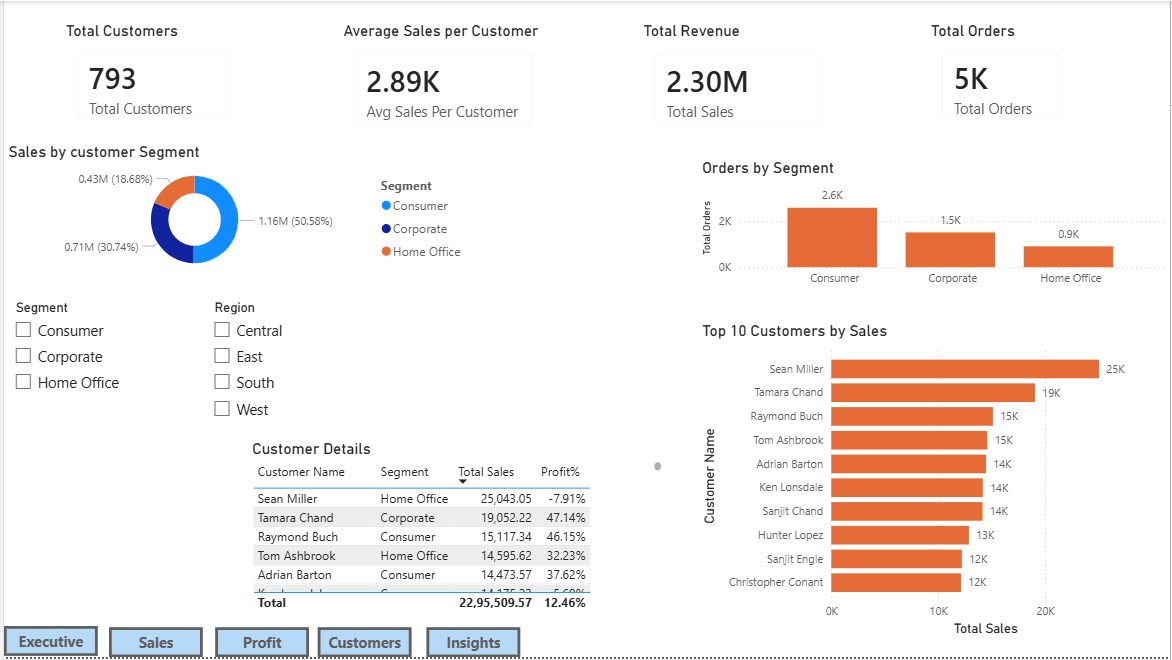

What the dashboard file says about the page in this screenshot:
{"tool":"powerbi","page":{"name":"Customer Insights","canvas":[1280,720],"ordinal":3},"visuals":[{"type":"cardVisual","title":"Total Customers","fields":{"Data":["Orders.Total Customers"]},"box":[63.1,22,204.5,124.9],"z":0},{"type":"cardVisual","title":"Average Sales per Customer","fields":{"Data":["Orders.Avg Sales Per Customer"]},"box":[367.8,22,229.2,131.7],"z":1000},{"type":"cardVisual","title":"Total Revenue","fields":{"Data":["Orders.Total Sales"]},"box":[697.1,22,215.2,132.1],"z":2000},{"type":"cardVisual","title":"Total Orders","fields":{"Data":["Orders.Total Orders"]},"box":[1012.5,22,163.9,124.7],"z":3000},{"type":"donutChart","title":" Sales by customer Segment","fields":{"Category":["Orders.Segment"],"Y":["Orders.Total Sales"]},"box":[0,155.1,516,150.9],"z":4000},{"type":"clusteredColumnChart","title":"Orders by Segment","fields":{"Category":["Orders.Segment"],"Y":["Orders.Total Orders"]},"box":[761.6,172.9,518.7,149.6],"z":5000},{"type":"barChart","title":"Top 10 Customers by Sales","fields":{"Category":["Orders.Customer Name"],"Y":["Orders.Total Sales"]},"box":[761.6,351.3,500.9,351.3],"z":6000},{"type":"tableEx","title":"Customer Details","fields":{"Values":["Orders.Customer Name","Orders.Segment","Sum(Orders.Sales)","Orders.Profit%"]},"box":[267.6,481.6,459.7,193.5],"z":7000},{"type":"slicer","fields":{"Values":["Orders.Segment"]},"box":[0,322.5,188,149.6],"z":8000},{"type":"slicer","fields":{"Values":["Orders.Region"]},"box":[218.2,322.5,149.6,145.5],"z":9000},{"type":"actionButton","box":[0,686.1,102.9,32.9],"z":10000},{"type":"actionButton","box":[115.3,687.5,102.9,32.9],"z":11000},{"type":"actionButton","box":[231.9,687.5,102.9,32.9],"z":12000},{"type":"actionButton","box":[344.4,687.5,102.9,32.9],"z":13000},{"type":"actionButton","box":[463.8,687.5,102.9,32.9],"z":14000}]}

Visuals, with their boxes in screenshot pixels (x1, y1, x2, y2), scaled from the page's 1280x720 canvas onto the 1172x660 screenshot:
"Total Customers" cardVisual: (58, 20, 245, 135)
"Average Sales per Customer" cardVisual: (337, 20, 547, 141)
"Total Revenue" cardVisual: (638, 20, 835, 141)
"Total Orders" cardVisual: (927, 20, 1077, 134)
" Sales by customer Segment" donutChart: (0, 142, 472, 280)
"Orders by Segment" clusteredColumnChart: (697, 158, 1171, 296)
"Top 10 Customers by Sales" barChart: (697, 322, 1156, 644)
"Customer Details" tableEx: (245, 441, 666, 619)
slicer - Orders.Segment: (0, 296, 172, 433)
slicer - Orders.Region: (200, 296, 337, 429)
actionButton: (0, 629, 94, 659)
actionButton: (106, 630, 200, 659)
actionButton: (212, 630, 307, 659)
actionButton: (315, 630, 410, 659)
actionButton: (425, 630, 519, 659)
